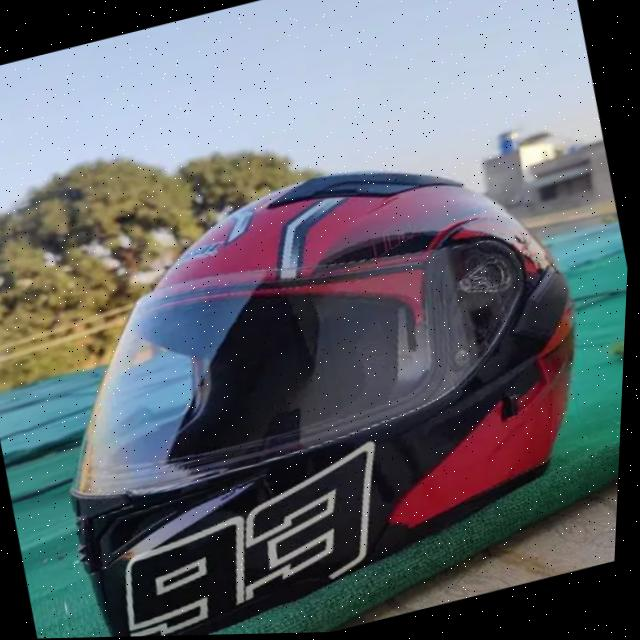Helmet: (4, 127, 601, 640)
